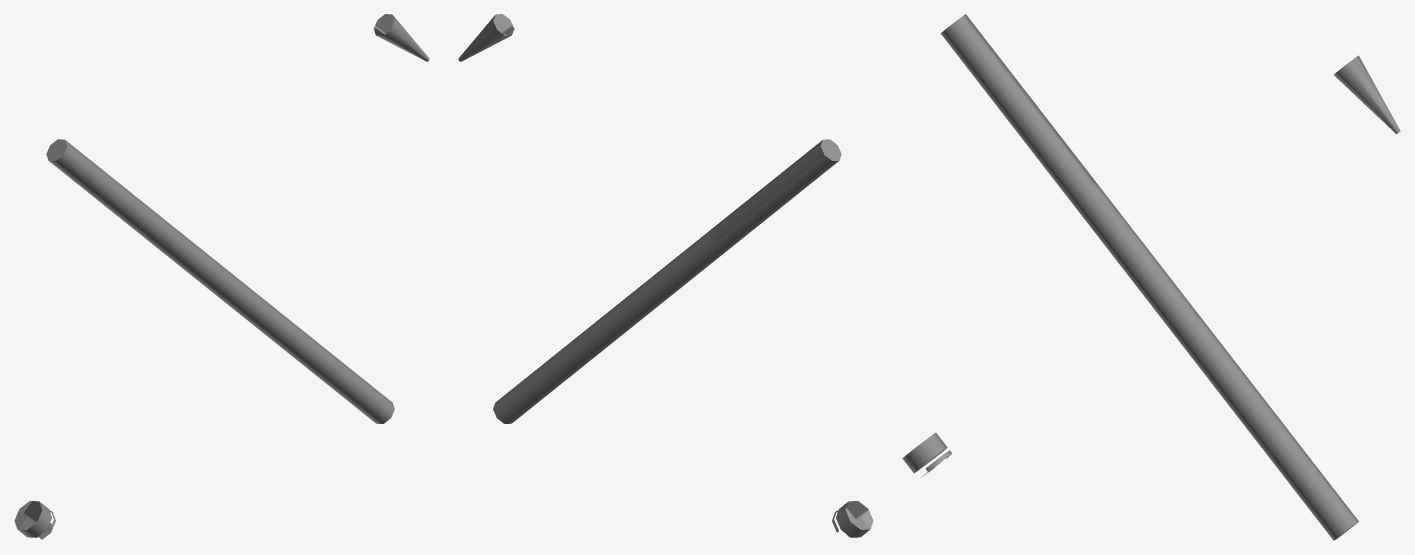
3 renders of one model, left to right at view 1: azimuth 30°, elevation 25°; view 2: azimuth 150°, elevation 25°; view 3: azimuth 330°, elevation 25°, orthographic. The views are drawn at different scales.
Size of the model in its own units: 0.2132 by 0.2167 by 0.016.
